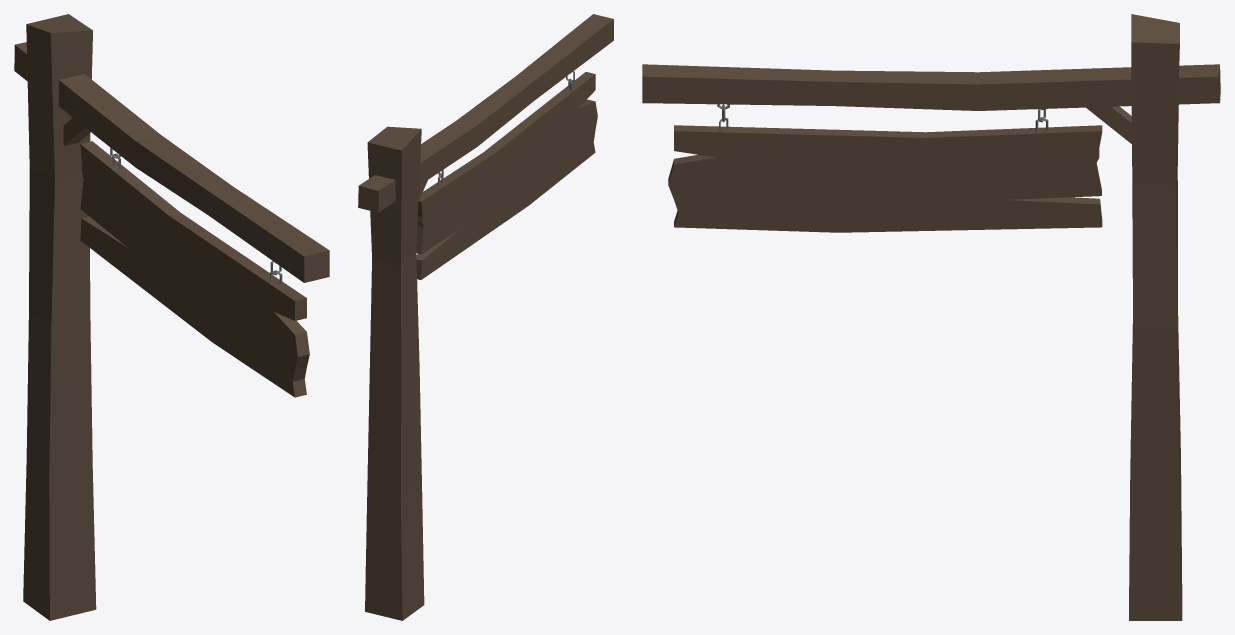
Rendered from sign.fbx.
3 renders of one model, left to right at view 1: azimuth 30°, elevation 25°; view 2: azimuth 150°, elevation 25°; view 3: azimuth 270°, elevation 25°, orthographic. The views are drawn at different scales.
Visible parts, largest first — view 1: sign; view 2: sign; view 3: sign.
Boxes of the visible parts, box(x1,y1,x2,y2) form: sign: box(14, 14, 329, 620); sign: box(358, 14, 613, 620); sign: box(642, 14, 1220, 620).
Bounding box in the file's own units: 12.28 × 148 × 133.
